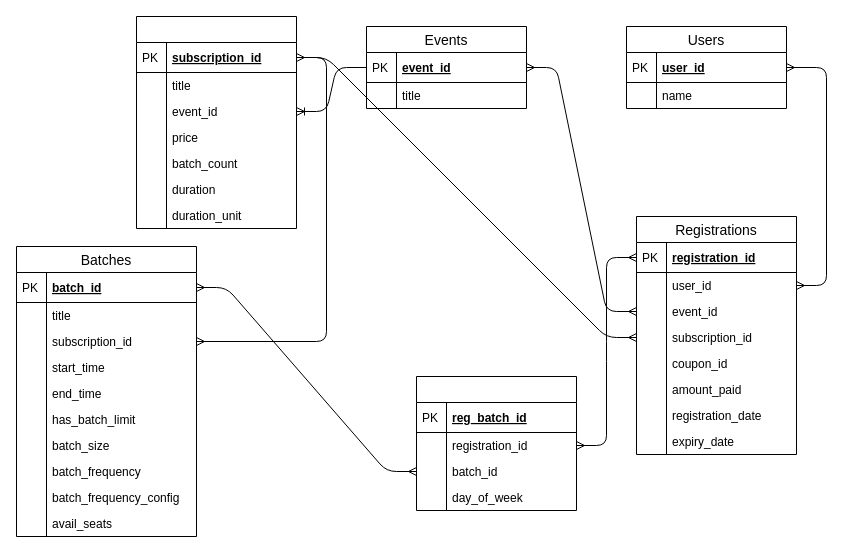
The diagram is 843 pixels wide and 553 high, and some of its shapes have lost their labels. Here are the shapes that lost their labels. From the top down, the box of each, then its label:
(136, 16, 296, 228): Subscriptions
(416, 376, 576, 510): Registration_Batches
